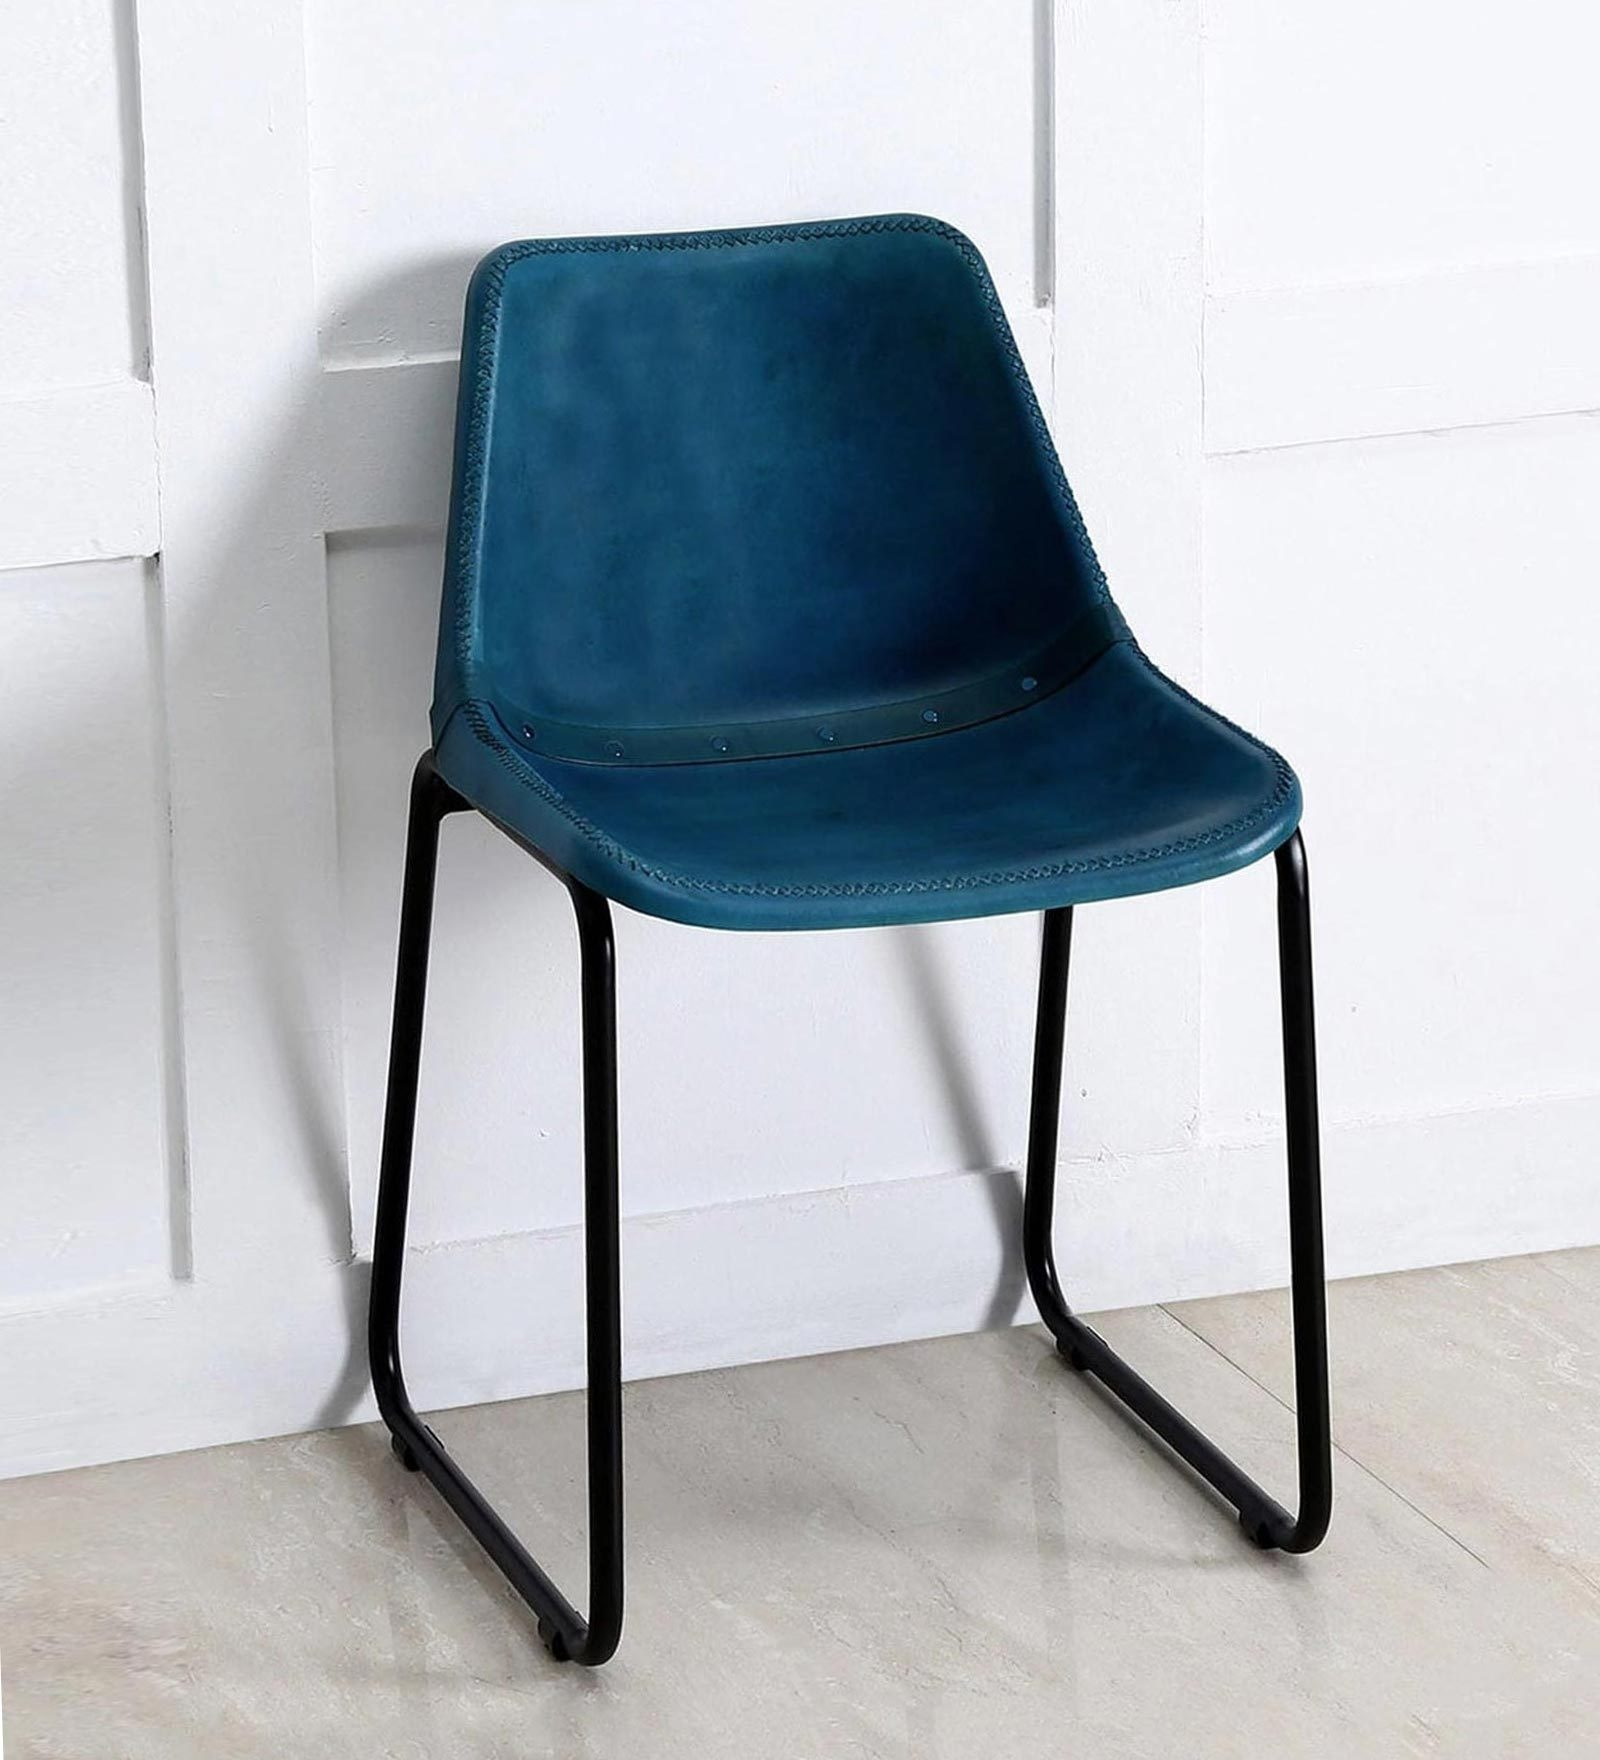Medina Ink Blue Color Leather Accent Chair by Bohemiana: (360, 204, 1359, 1673)
